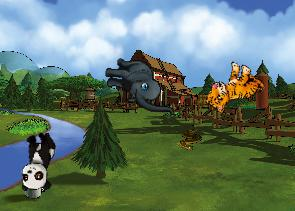elephant: (104, 58, 174, 115)
panda: (19, 130, 56, 192)
tiger: (201, 55, 268, 124)
